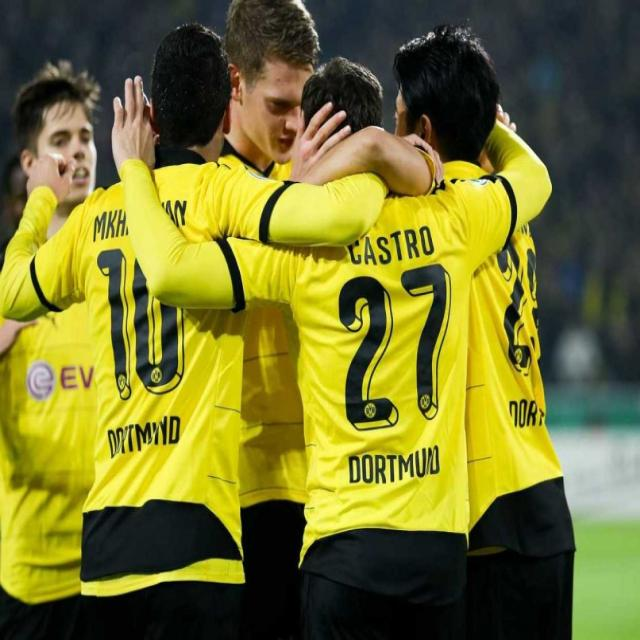body: (108, 51, 557, 639), (0, 20, 391, 639), (292, 16, 577, 640), (216, 0, 355, 640), (0, 55, 106, 640), (534, 141, 639, 382), (0, 149, 25, 259)
